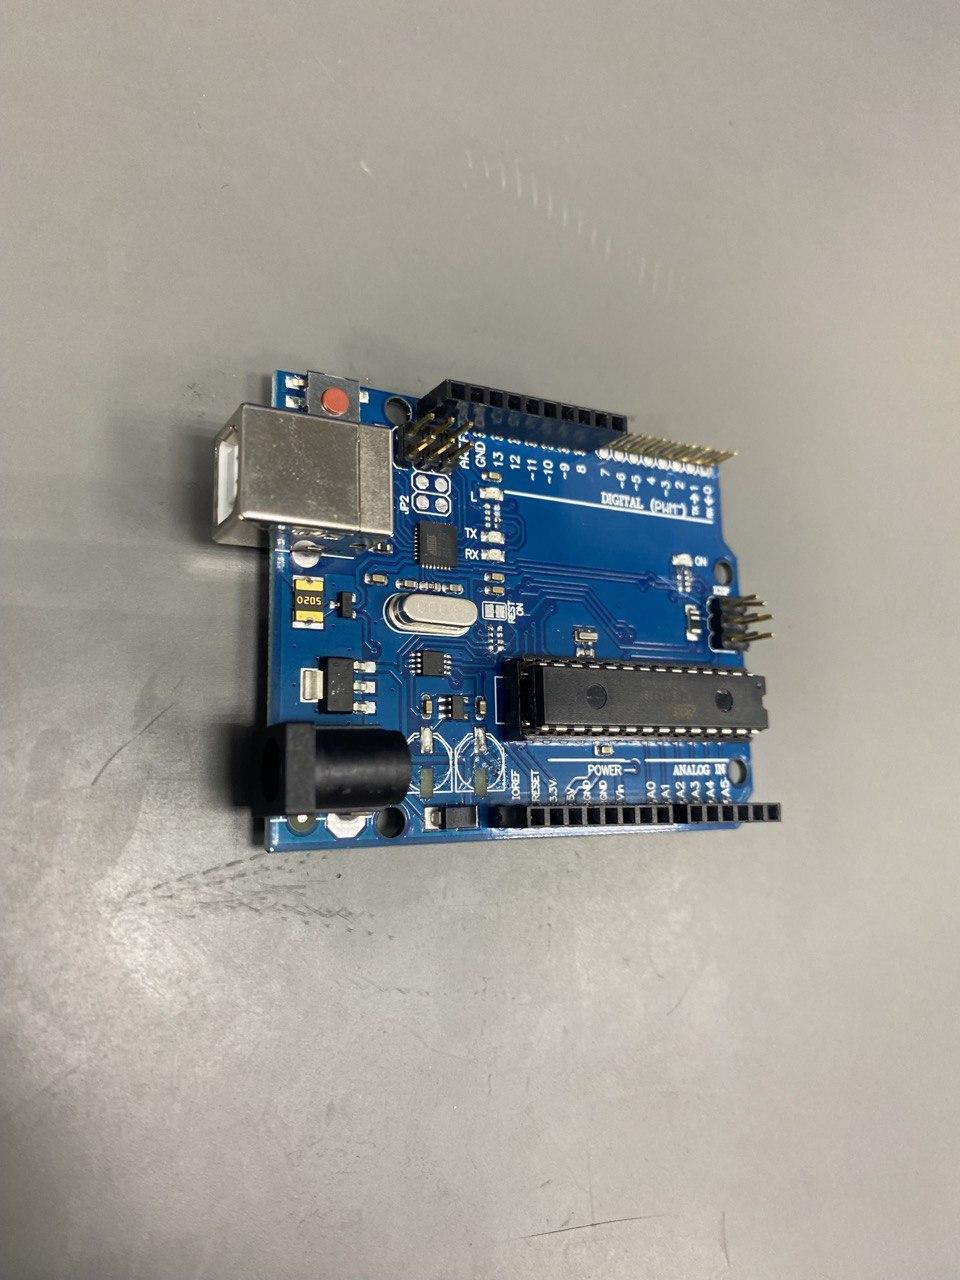ATmega328 chip: (502, 654, 768, 746)
Arduino board: (211, 368, 782, 853)
USB: (210, 401, 393, 559)
pins: (416, 378, 627, 454), (488, 802, 674, 827), (673, 799, 782, 825)
